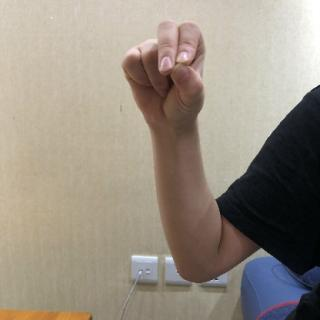QAAF: (119, 15, 212, 140)
